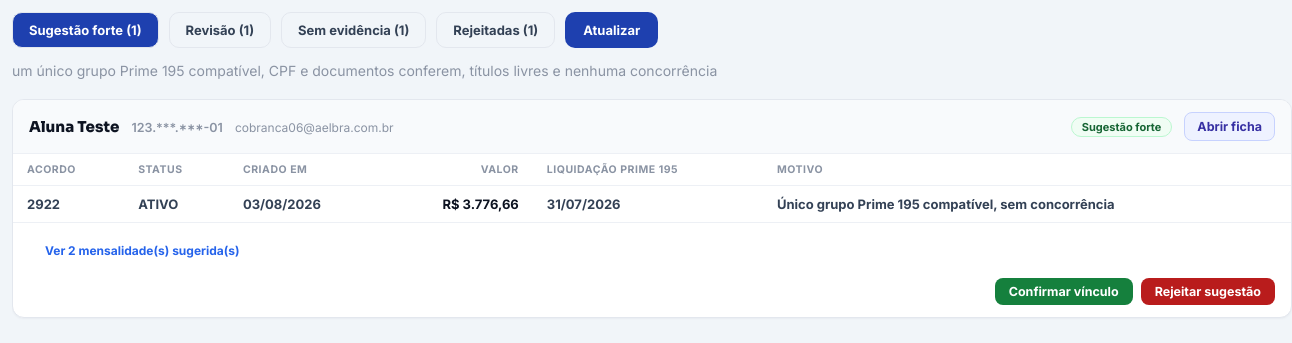
Test: SugestoesVinculoAcordo › filtros: Revisao e Sem evidencia nao tem 'Confirmar vinculo'; Rejeitadas mostra quem rejeitou e nao oferece botoes
The image size is (1292, 343).
Step 1. Click the button "Revisão (1)" → (220, 30), box left=169, top=12, right=271, bottom=48
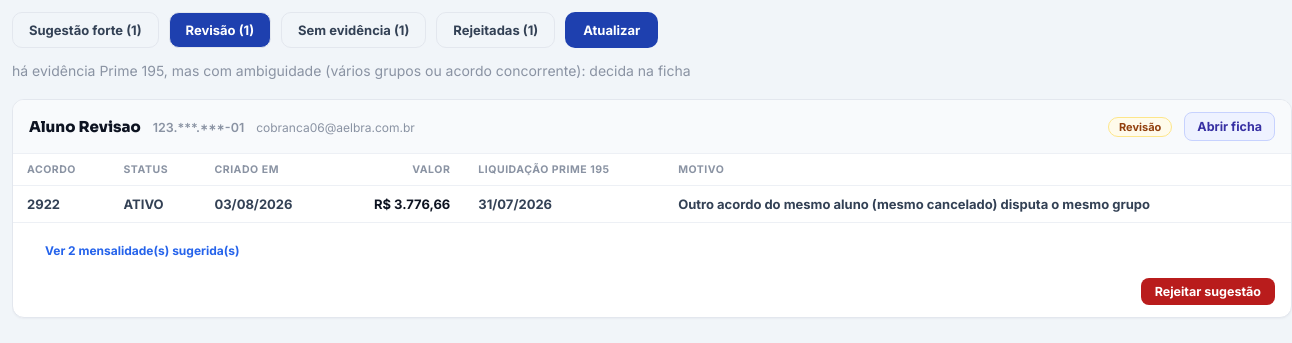
Expected: the button "Rejeitar sugestão" is shown, left=1141, top=278, right=1275, bottom=305
Expected: the text "Aluno Revisao" is shown, left=29, top=117, right=141, bottom=136
Expected: the button "Confirmar vínculo" is gone
Step 2. Click the button "Sem evidência (1)" → (354, 30), box left=281, top=12, right=426, bottom=48
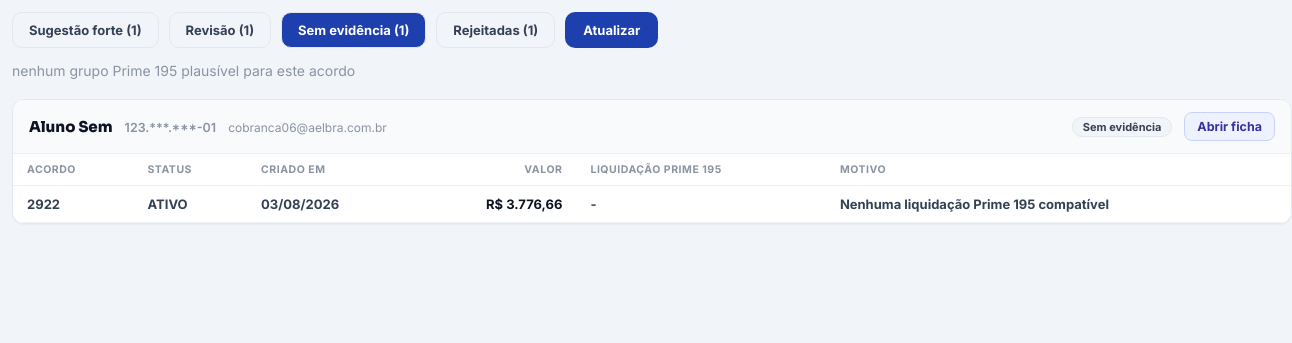
Expected: the button "Confirmar vínculo" is not shown
Expected: the text "Aluno Sem" is shown, left=29, top=117, right=113, bottom=136
Expected: the button "Rejeitar sugestão" is gone
Step 3. Click the button "Rejeitadas (1)" → (496, 30), box left=436, top=12, right=555, bottom=48
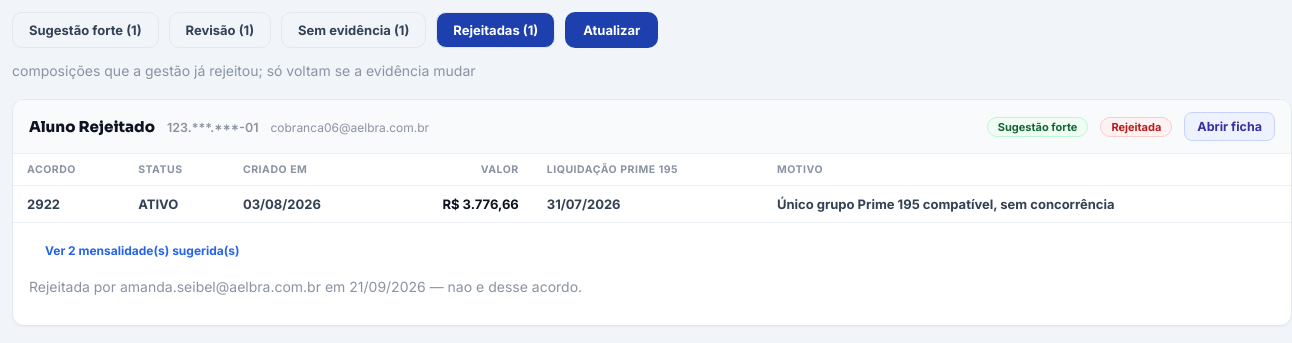
Expected: the button "Confirmar vínculo" is not shown
Expected: the text "Rejeitada por amanda.seibel@aelbra.com.br" is shown, left=29, top=278, right=582, bottom=295
Expected: the text "nao e desse acordo" is shown, left=426, top=278, right=578, bottom=295
